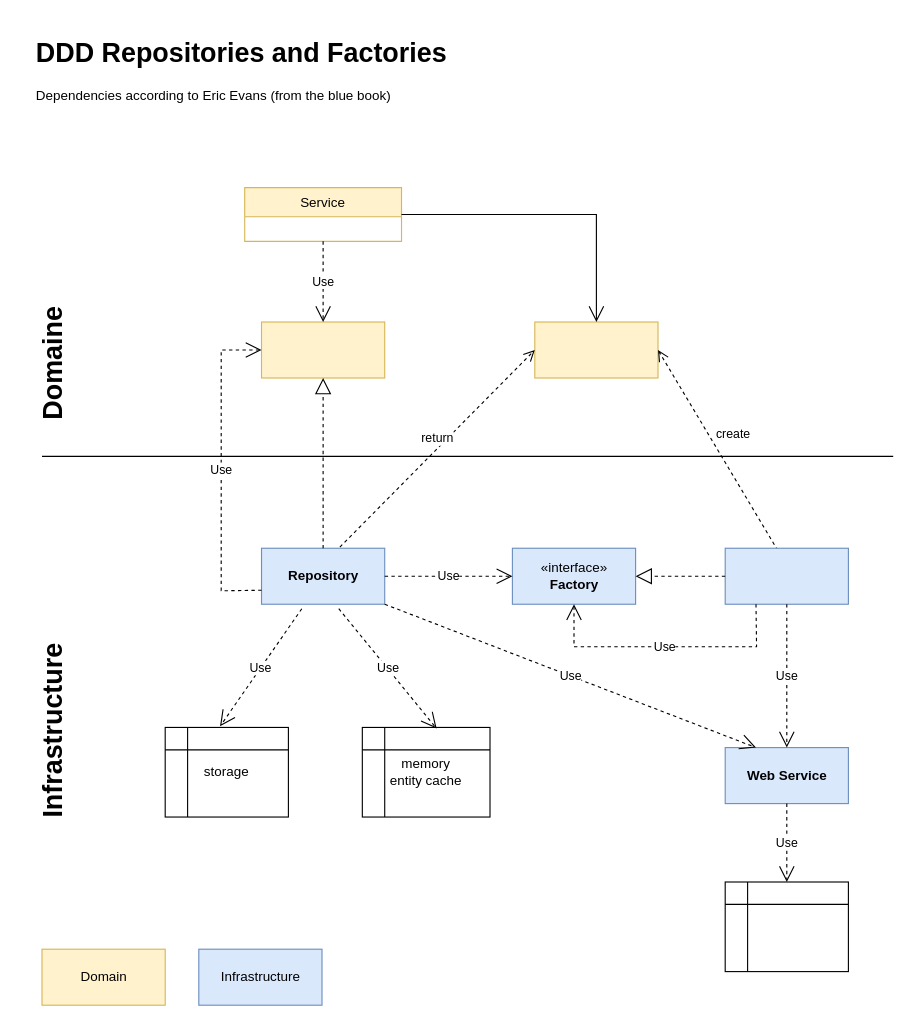
Image size: 914x1025. Some labels were removed from this diagram. Each missing label, with the centre of its shape:
"Entity" goes at (x=596, y=349).
"Factory" goes at (x=786, y=575).
"memory query cache" goes at (x=786, y=926).
"«interface» Repository" goes at (x=322, y=349).
